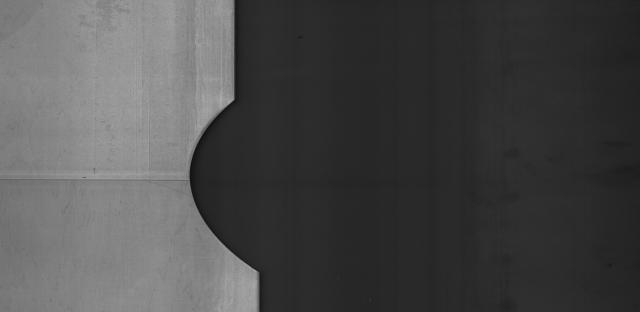crescent_gap: (178, 81, 282, 280)
welding_line: (1, 166, 212, 192)
